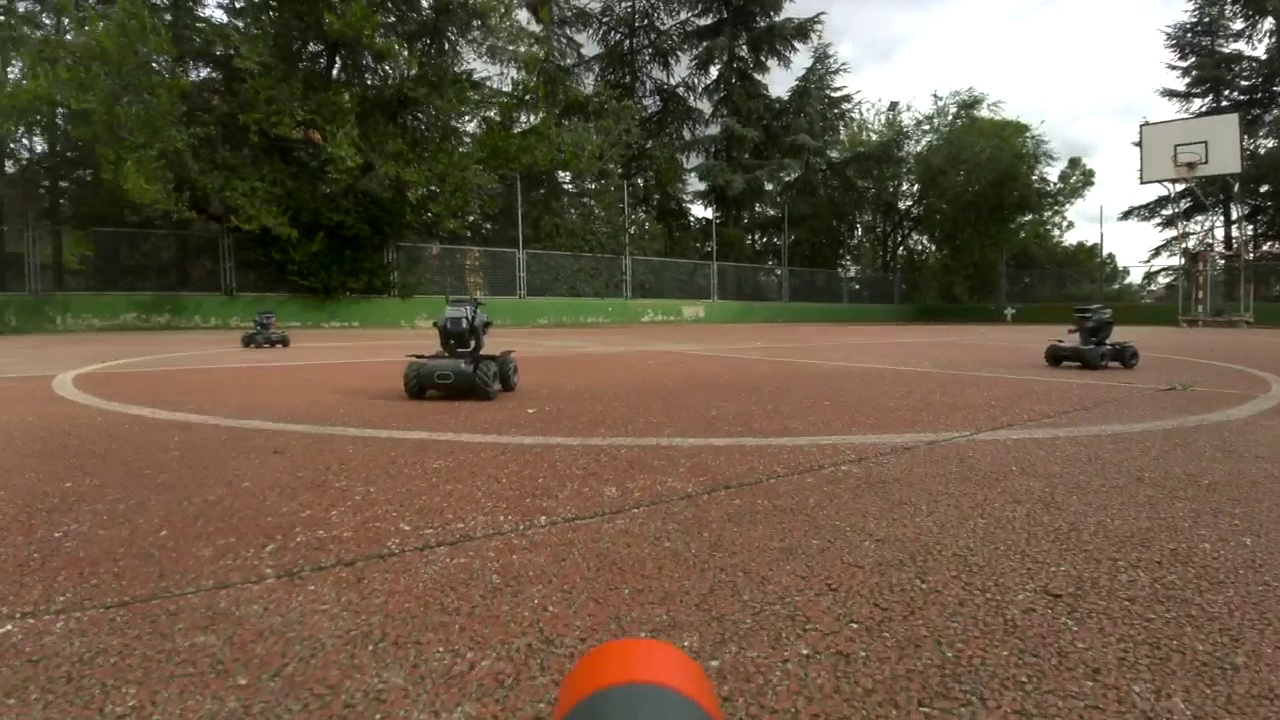robot: (403, 301, 519, 402), (1046, 304, 1139, 370), (244, 309, 289, 347)
